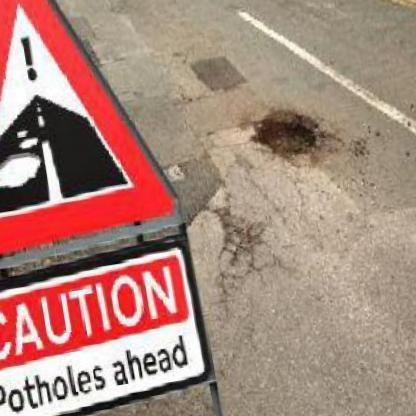pothole: (247, 99, 336, 172)
